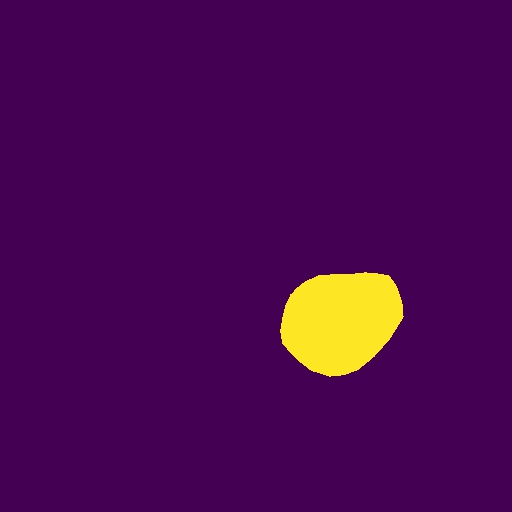Menigiomia_tumour: (280, 272, 404, 377)
